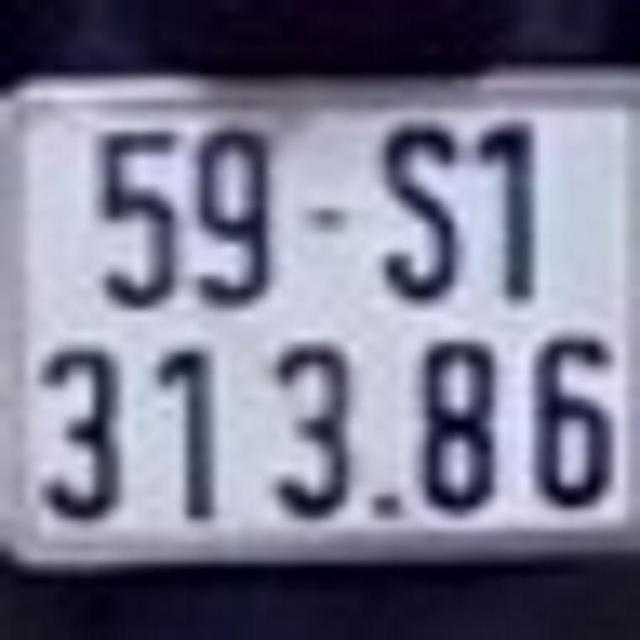1: (474, 112, 552, 304), (152, 334, 228, 524)
3: (42, 330, 122, 529), (270, 330, 350, 525)
5: (98, 112, 178, 312)
6: (534, 324, 614, 511)
8: (420, 326, 494, 516)
9: (193, 116, 272, 306)
S: (374, 115, 464, 304)
